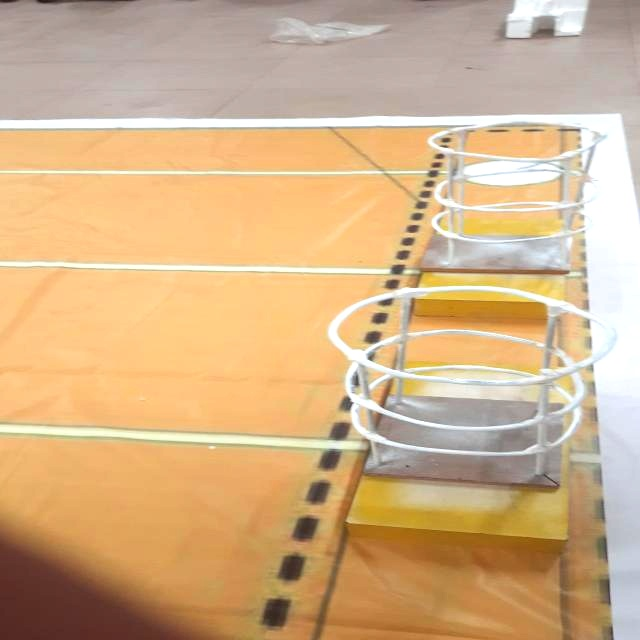silo: (312, 276, 623, 496), (387, 106, 613, 281)
